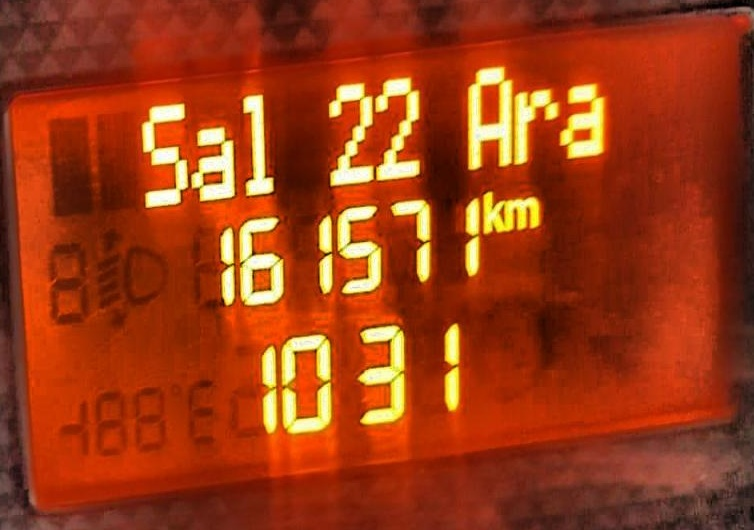0: (280, 329, 333, 442)
1: (437, 308, 469, 428), (252, 329, 278, 451), (310, 204, 335, 303), (210, 215, 234, 316), (460, 193, 481, 296)
2: (375, 65, 424, 187), (323, 78, 374, 193)
3: (353, 309, 413, 435)
5: (340, 198, 383, 297)
6: (237, 214, 289, 312)
7: (391, 195, 444, 291)
X: (135, 98, 187, 217), (464, 53, 514, 171), (238, 89, 278, 202), (562, 77, 610, 169), (187, 117, 236, 205), (513, 85, 557, 163), (502, 192, 542, 234), (484, 182, 503, 237)
